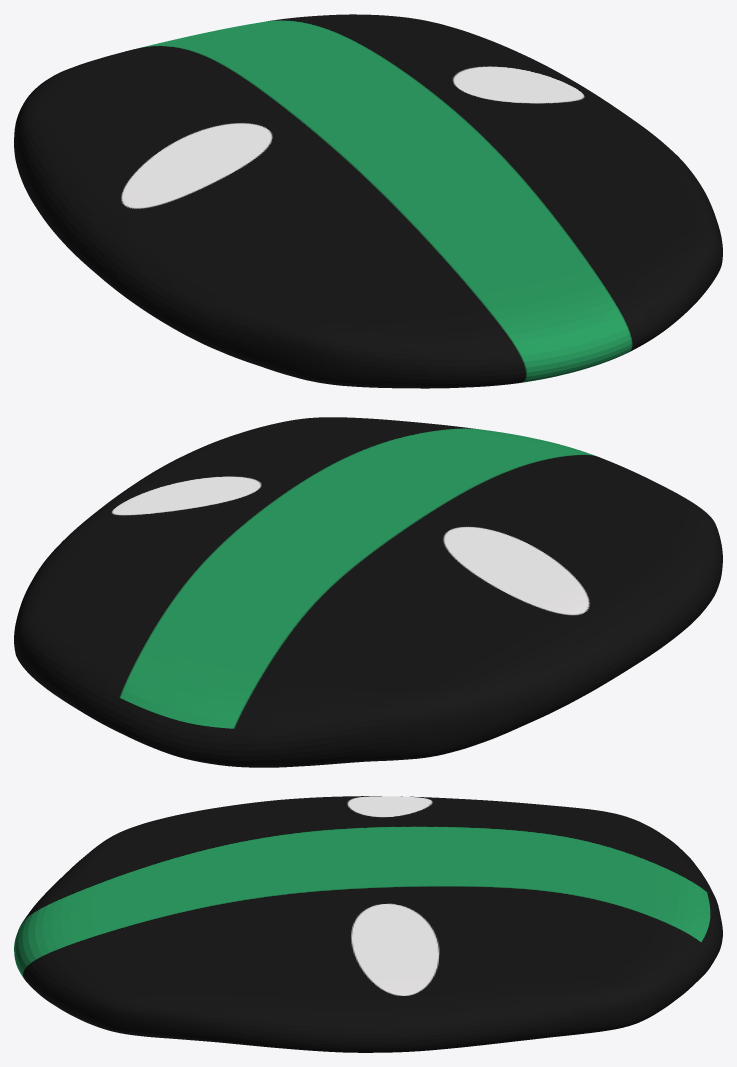
The model's file is CaliMask.fbx.
3 views of the same model, one above another, from view 1: azimuth 30°, elevation 25°; view 2: azimuth 150°, elevation 25°; view 3: azimuth 270°, elevation 25° (orthographic). The views are drawn at different scales.
Parts seen in each view (by area): view 1: Cali; view 2: Cali; view 3: Cali.
Part boxes in pixels (bbox=[...]): Cali: bbox=[14, 14, 722, 388]; Cali: bbox=[14, 417, 722, 767]; Cali: bbox=[14, 796, 722, 1052].
Size of the model in its own units: 1418 by 316 by 1816.
1 material, 1 textured.
